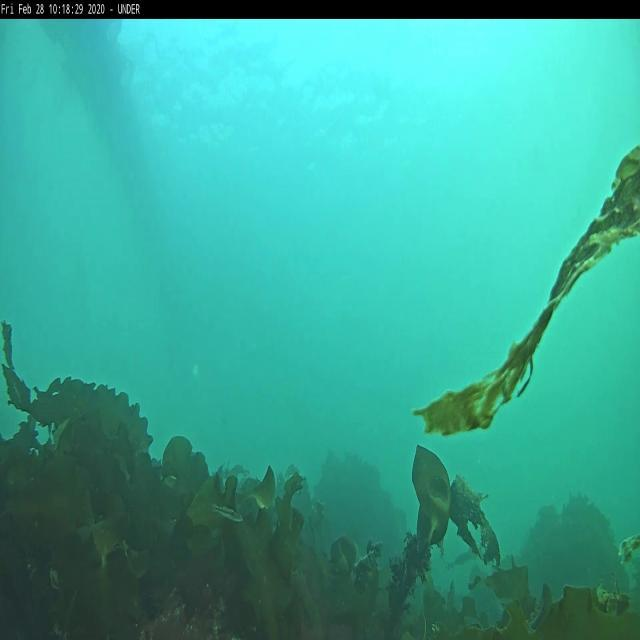fish: (212, 502, 243, 524)
